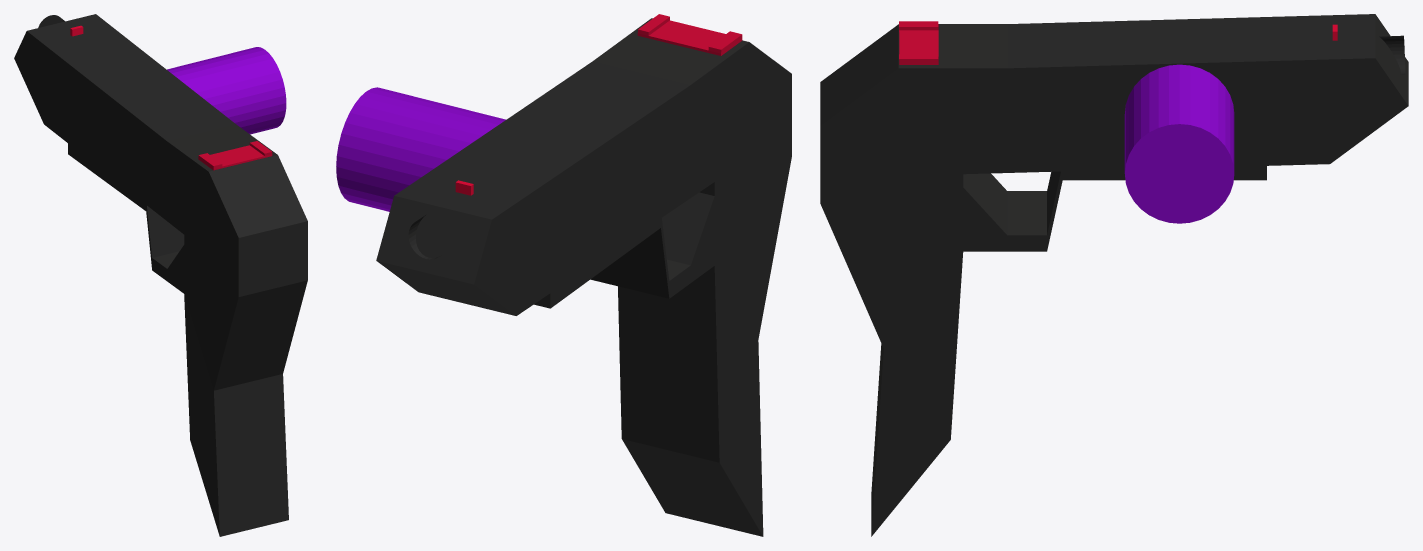
File: handgun.fbx
The picture shows the model from 3 angles, left to right: view 1: azimuth 30°, elevation 25°; view 2: azimuth 150°, elevation 25°; view 3: azimuth 270°, elevation 25°; orthographic projection. The views are drawn at different scales.
Parts seen in each view (by area): view 1: Cube_001; view 2: Cube_001; view 3: Cube_001.
Boxes of the visible parts, x1,y1,x2,y2 form: Cube_001: (14,14,307,536); Cube_001: (336,14,791,536); Cube_001: (820,14,1408,536).
Size of the model in its own units: 1.86 by 3.99 by 4.38.
